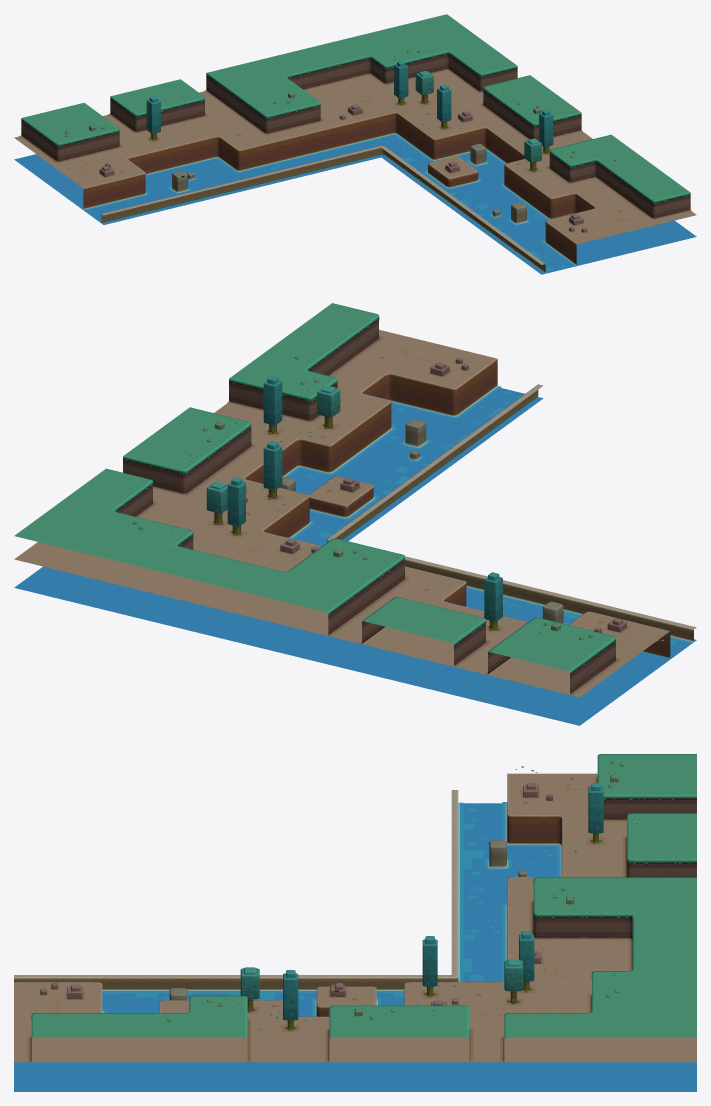
Rendered from C_water1_out_LD.fbx.
3 views of the same model, one above another, from view 1: azimuth 30°, elevation 25°; view 2: azimuth 150°, elevation 25°; view 3: azimuth 270°, elevation 25° (orthographic). The views are drawn at different scales.
Parts seen in each view (by area): view 1: C_water1_out_LD; view 2: C_water1_out_LD; view 3: C_water1_out_LD.
Part boxes in pixels (x1,y1,x2,y2): C_water1_out_LD: (14,14,696,274); C_water1_out_LD: (14,303,696,725); C_water1_out_LD: (14,754,696,1091).
Size of the model in its own units: 120 by 16.47 by 117.
Materials: 1 (1 with a texture image).
